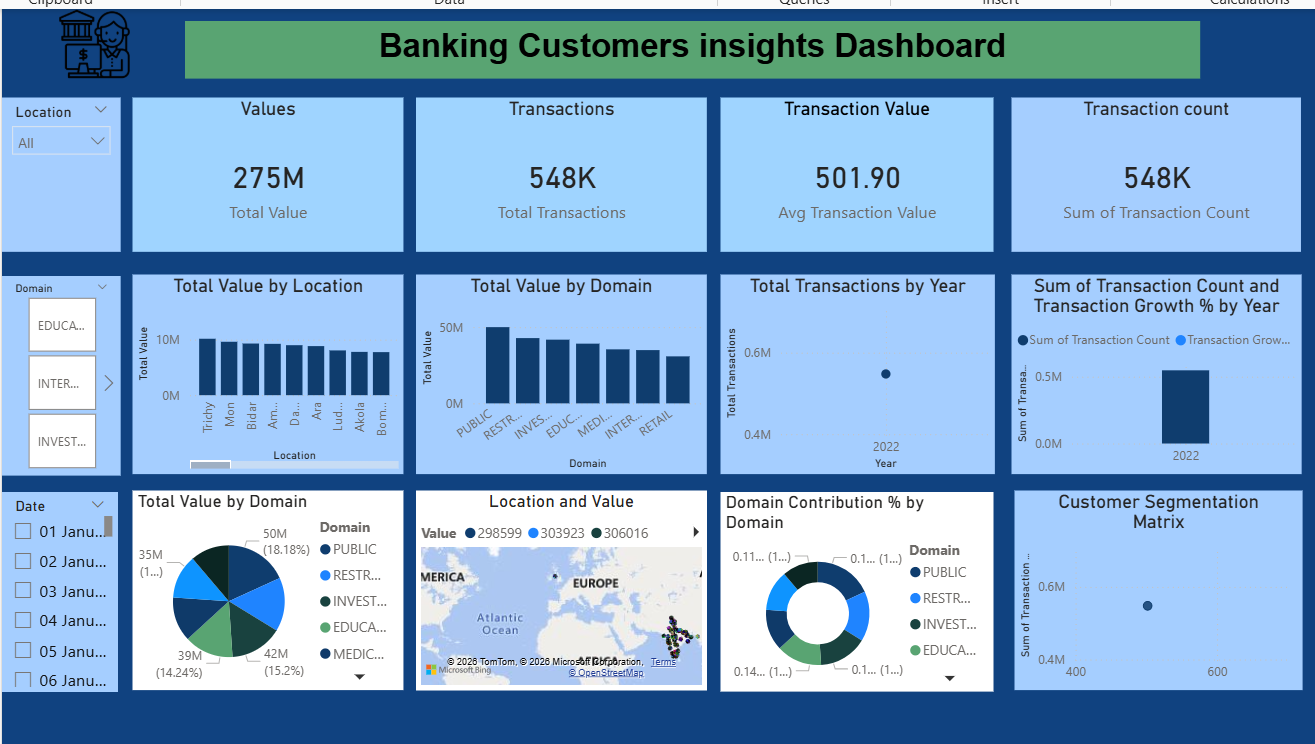

What the dashboard file says about the page in this screenshot:
{"tool":"powerbi","page":{"name":"Page 1","canvas":[1280,720],"ordinal":0},"visuals":[{"type":"textbox","box":[177.3,12.1,986.4,56.1],"z":0},{"type":"card","title":"Values","fields":{"Values":["bankdataset.Total Value"]},"box":[127.3,86.4,263.6,150],"z":1000},{"type":"card","title":"Transactions","fields":{"Values":["bankdataset.Total Transactions"]},"box":[402.4,86,282.8,150.2],"z":2000},{"type":"card","title":"Transaction Value","fields":{"Values":["bankdataset.Avg Transaction Value"]},"box":[698.3,86,265.3,150.2],"z":3000},{"type":"clusteredColumnChart","fields":{"Category":["bankdataset.Location"],"Y":["bankdataset.Total Value"]},"box":[127.3,257.6,263.6,193.9],"z":4000},{"type":"clusteredColumnChart","fields":{"Category":["bankdataset.Domain"],"Y":["bankdataset.Total Value"]},"box":[402.4,258,282.8,193.9],"z":5000},{"type":"lineChart","fields":{"Category":["bankdataset.Date.Variation.Date Hierarchy.Year","bankdataset.Date.Variation.Date Hierarchy.Quarter","bankdataset.Date.Variation.Date Hierarchy.Month","bankdataset.Date.Variation.Date Hierarchy.Day"],"Y":["bankdataset.Total Transactions"]},"box":[698.3,258,266.8,193.9],"z":6000},{"type":"map","fields":{"Category":["bankdataset.Location"],"Series":["bankdataset.Value"]},"box":[402.4,468,282.8,193.9],"z":7000},{"type":"pieChart","fields":{"Category":["bankdataset.Domain"],"Y":["bankdataset.Total Value"]},"box":[127.3,468.2,263.6,193.9],"z":8000},{"type":"scatterChart","title":"Customer Segmentation Matrix","fields":{"X":["bankdataset.Avg Transaction Value"],"Y":["Sum(bankdataset.Transaction Count)"]},"box":[983.3,468.2,280.3,193.9],"z":9000},{"type":"donutChart","fields":{"Category":["bankdataset.Domain"],"Y":["bankdataset.Domain Contribution %"]},"box":[698.3,469.4,265.3,193.9],"z":10000},{"type":"lineStackedColumnComboChart","fields":{"Category":["bankdataset.Date.Variation.Date Hierarchy.Year","bankdataset.Date.Variation.Date Hierarchy.Quarter","bankdataset.Date.Variation.Date Hierarchy.Month","bankdataset.Date.Variation.Date Hierarchy.Day"],"Y":["Sum(bankdataset.Transaction Count)"],"Y2":["bankdataset.Transaction Growth %"]},"box":[981.8,257.6,281.8,193.9],"z":11000},{"type":"card","title":"Transaction count","fields":{"Values":["Sum(bankdataset.Transaction Count)"]},"box":[981.1,86,281.4,150.2],"z":12000},{"type":"image","box":[25.8,0,127.3,68.2],"z":13000},{"type":"slicer","fields":{"Values":["bankdataset.Domain"]},"box":[0,259.1,115.2,193.9],"z":14000},{"type":"slicer","fields":{"Values":["bankdataset.Location"]},"box":[0,86.4,115.2,150],"z":15000},{"type":"slicer","fields":{"Values":["bankdataset.Date"]},"box":[0,469.7,112.1,193.9],"z":16000}]}

Visuals, with their boxes in screenshot pixels (x1, y1, x2, y2):
textbox: (left=190, top=23, right=1189, bottom=79)
"Values" card: (left=139, top=98, right=406, bottom=250)
"Transactions" card: (left=418, top=97, right=704, bottom=250)
"Transaction Value" card: (left=718, top=97, right=987, bottom=250)
clusteredColumnChart - bankdataset.Location x bankdataset.Total Value: (left=139, top=271, right=406, bottom=468)
clusteredColumnChart - bankdataset.Domain x bankdataset.Total Value: (left=418, top=272, right=704, bottom=468)
lineChart - bankdataset.Date.Variation.Date Hierarchy.Year x bankdataset.Date.Variation.Date Hierarchy.Quarter: (left=718, top=272, right=988, bottom=468)
map - bankdataset.Location x bankdataset.Value: (left=418, top=484, right=704, bottom=681)
pieChart - bankdataset.Domain x bankdataset.Total Value: (left=139, top=485, right=406, bottom=681)
"Customer Segmentation Matrix" scatterChart: (left=1006, top=485, right=1290, bottom=681)
donutChart - bankdataset.Domain x bankdataset.Domain Contribution %: (left=718, top=486, right=987, bottom=682)
lineStackedColumnComboChart - bankdataset.Date.Variation.Date Hierarchy.Year x bankdataset.Date.Variation.Date Hierarchy.Quarter: (left=1005, top=271, right=1290, bottom=468)
"Transaction count" card: (left=1004, top=97, right=1289, bottom=250)
image: (left=36, top=10, right=165, bottom=79)
slicer - bankdataset.Domain: (left=10, top=273, right=127, bottom=469)
slicer - bankdataset.Location: (left=10, top=98, right=127, bottom=250)
slicer - bankdataset.Date: (left=10, top=486, right=124, bottom=683)
